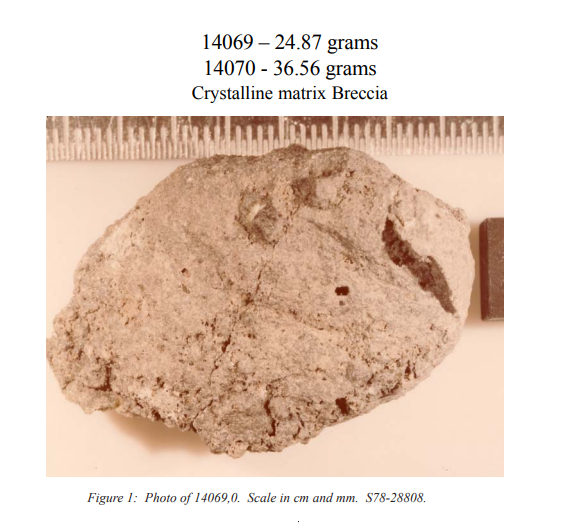Breccia: (56, 150, 486, 446)
